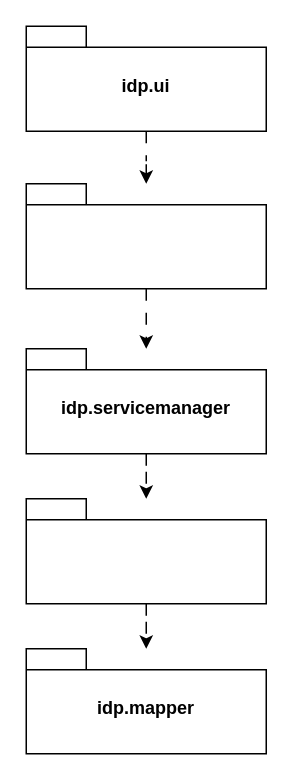
This 293x780 diagram has some shape labels left out. Each missing label, with the centre of its shape:
idp.controller: the point at 145,235
idp.service: the point at 145,550
